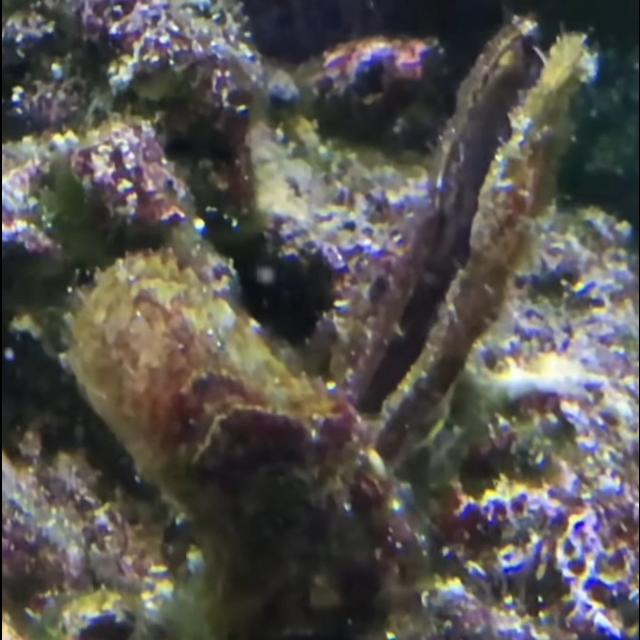Oyster-Closed: (71, 253, 399, 611)
Oyster-Open: (305, 21, 595, 473)
